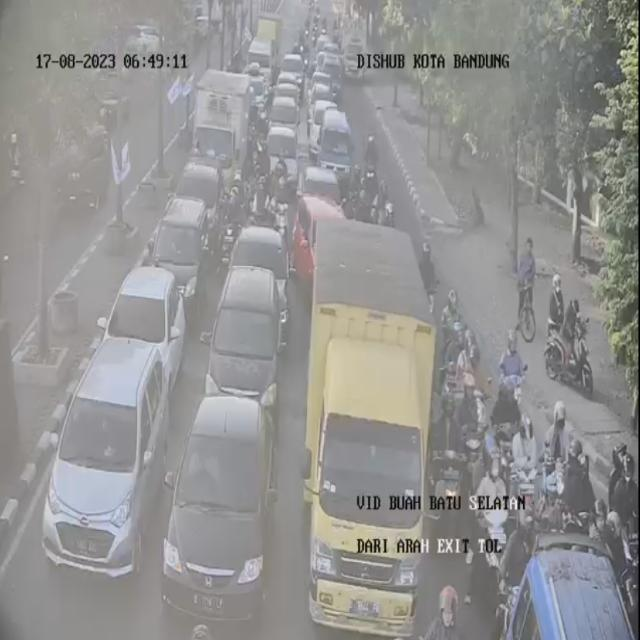bus: (190, 74, 248, 190)
cars: (43, 334, 165, 569), (166, 380, 276, 640), (505, 540, 634, 640), (208, 261, 289, 406), (102, 269, 186, 389), (229, 225, 294, 342), (156, 194, 208, 306), (179, 158, 222, 237), (320, 110, 355, 201), (296, 165, 342, 211), (265, 126, 299, 182), (270, 92, 302, 140), (308, 98, 337, 142), (309, 68, 337, 105), (279, 52, 305, 89), (275, 70, 302, 96)
motorcycle: (472, 458, 508, 578), (610, 438, 640, 576), (432, 398, 464, 512), (545, 395, 576, 512), (489, 376, 523, 470), (422, 579, 471, 640), (533, 470, 570, 543), (501, 333, 530, 418), (220, 176, 247, 262), (458, 387, 486, 466), (270, 156, 292, 238), (441, 284, 466, 345), (252, 178, 278, 233), (254, 139, 268, 202), (374, 185, 394, 226)
truck: (301, 218, 430, 640), (252, 16, 284, 60)
